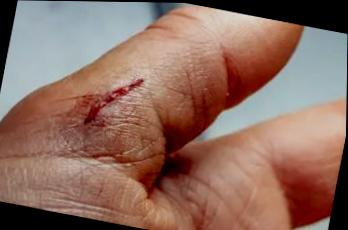Fire: (86, 79, 144, 124)
